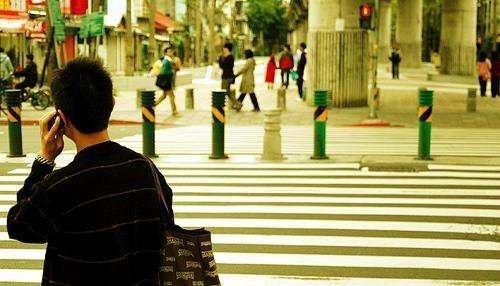bicycle: (20, 84, 50, 111)
